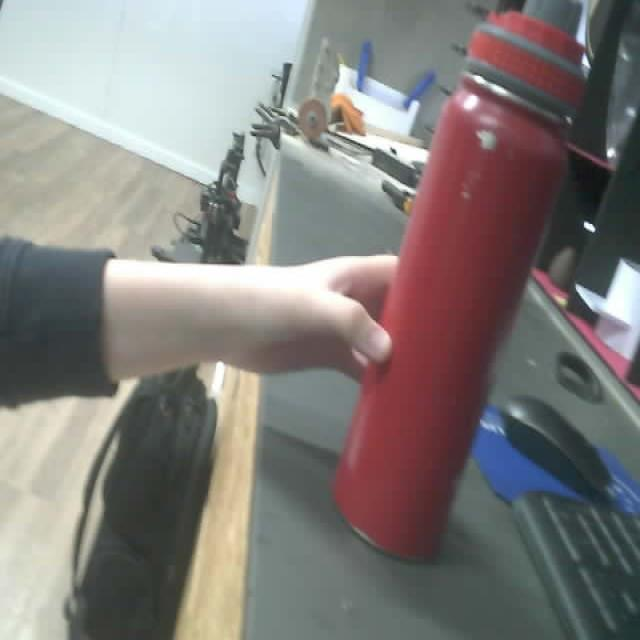water bottle: (332, 0, 593, 563)
